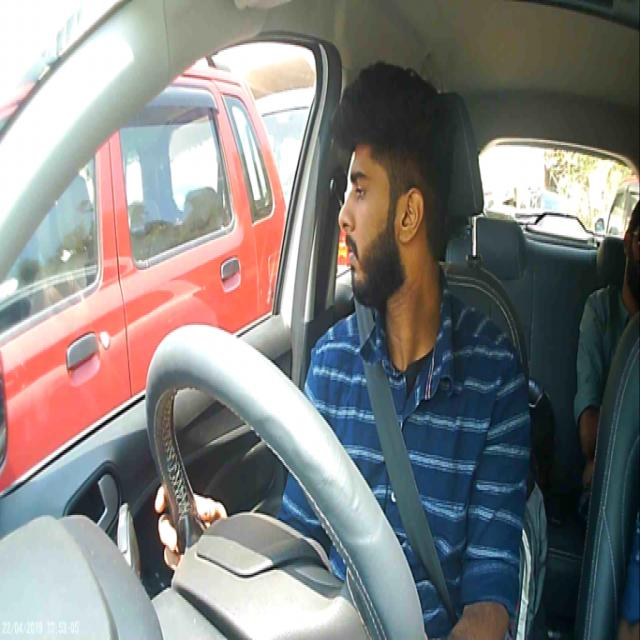seatbelt: (317, 338, 472, 610)
